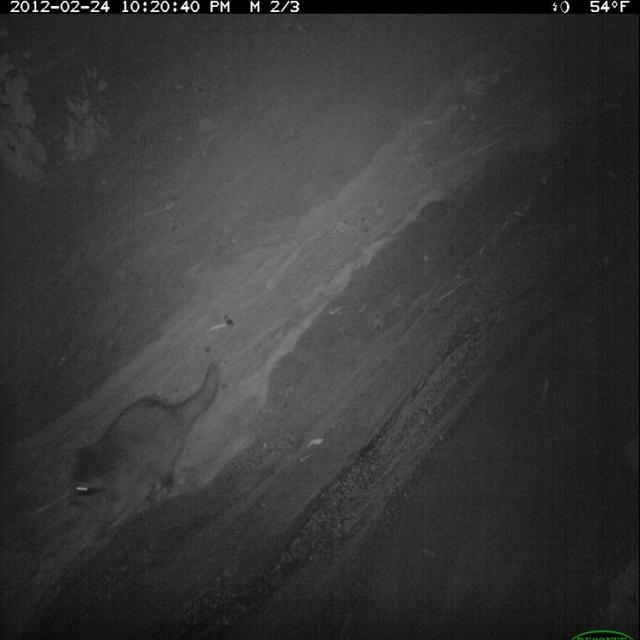raccoon: (62, 355, 226, 545)
